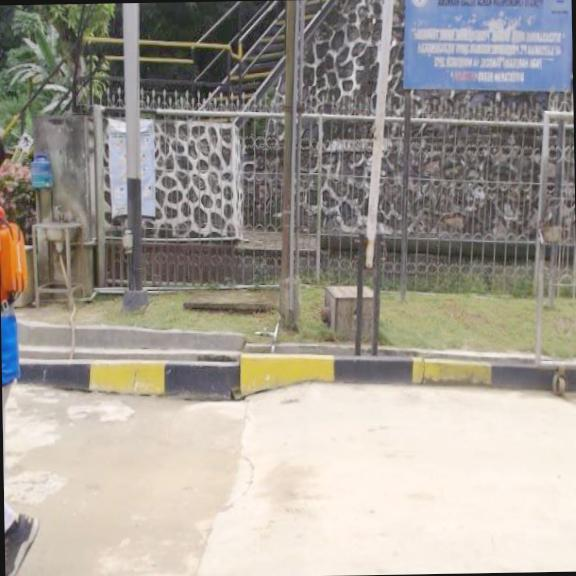safety_vest: (0, 214, 31, 301)
